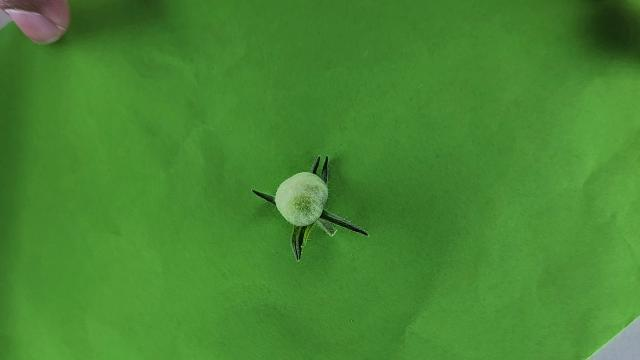Fruit Maturation: (275, 171, 330, 225)
